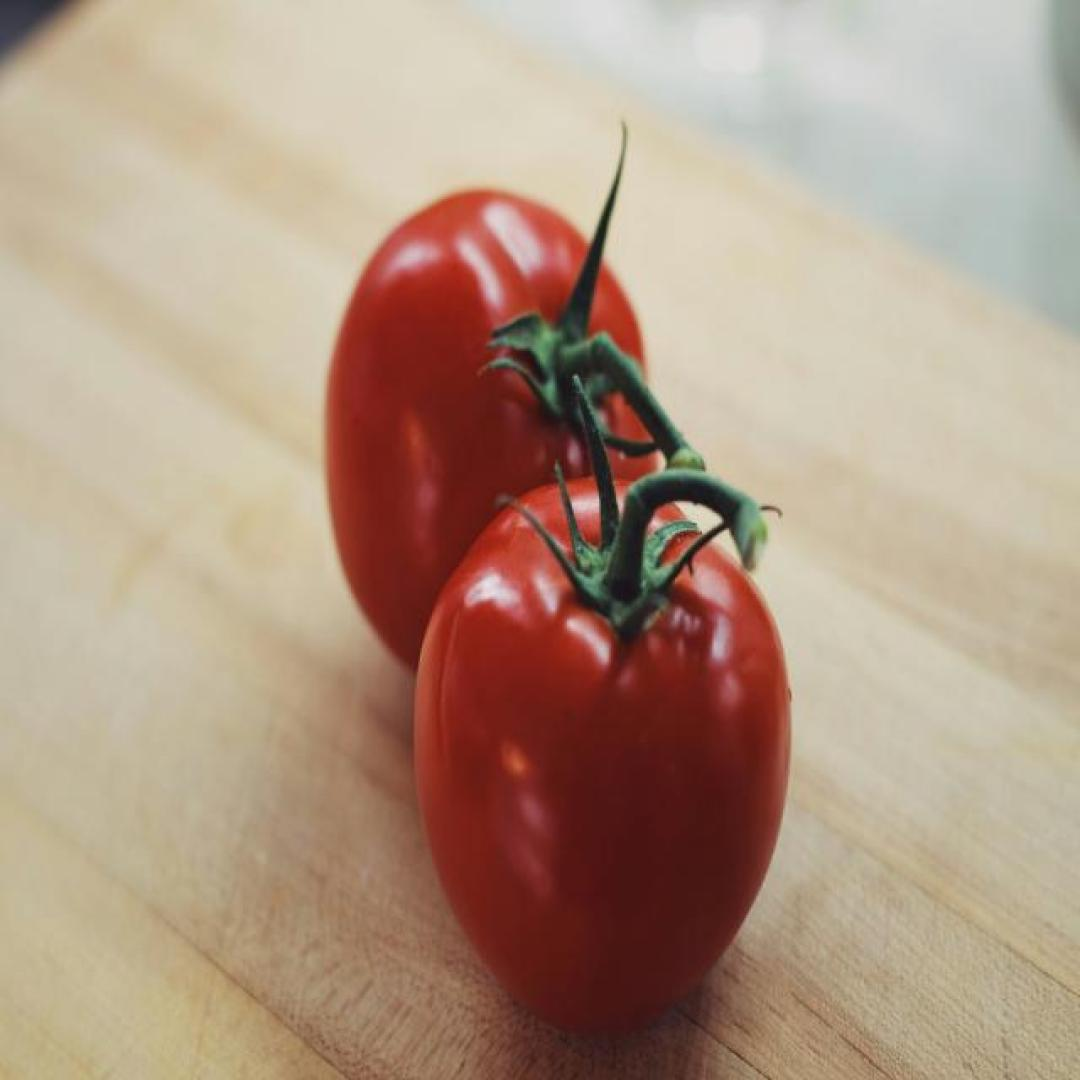matang: (414, 481, 793, 1026), (324, 192, 646, 707)
